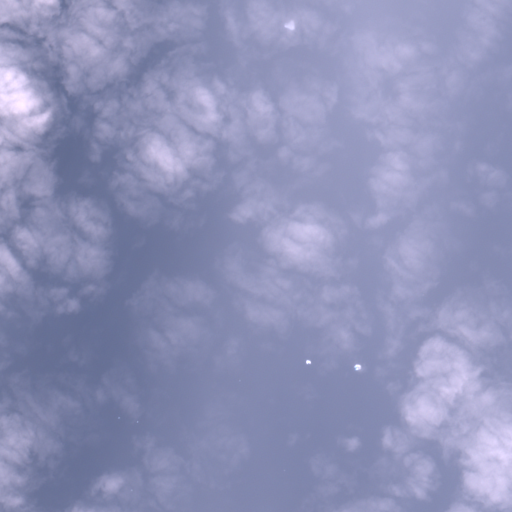Iceberg: (284, 19, 294, 29), (354, 364, 361, 370), (306, 360, 310, 364), (118, 417, 119, 418), (137, 421, 138, 422)
